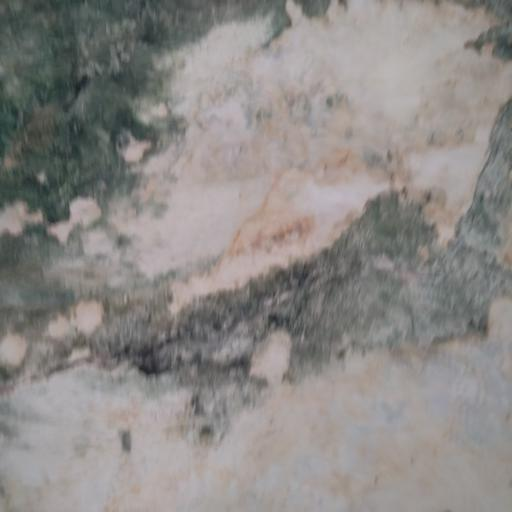algae: (2, 0, 512, 434)
